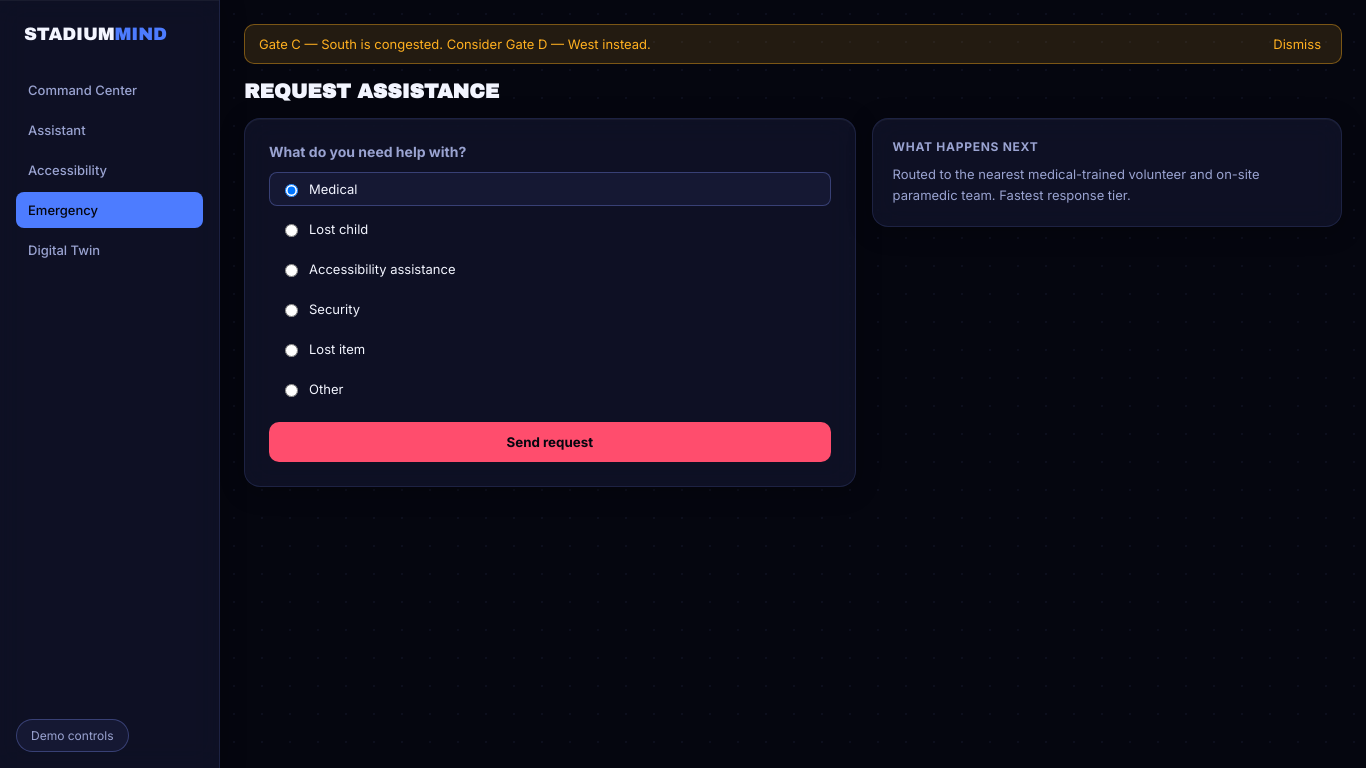
Test: App › routes "Lost child" into the dedicated recovery workflow instead of the generic form
This screenshot has width=1366, height=768.
Click the radio button labelled "Lost child": point(292, 230) x1=285 y1=224 x2=298 y2=237
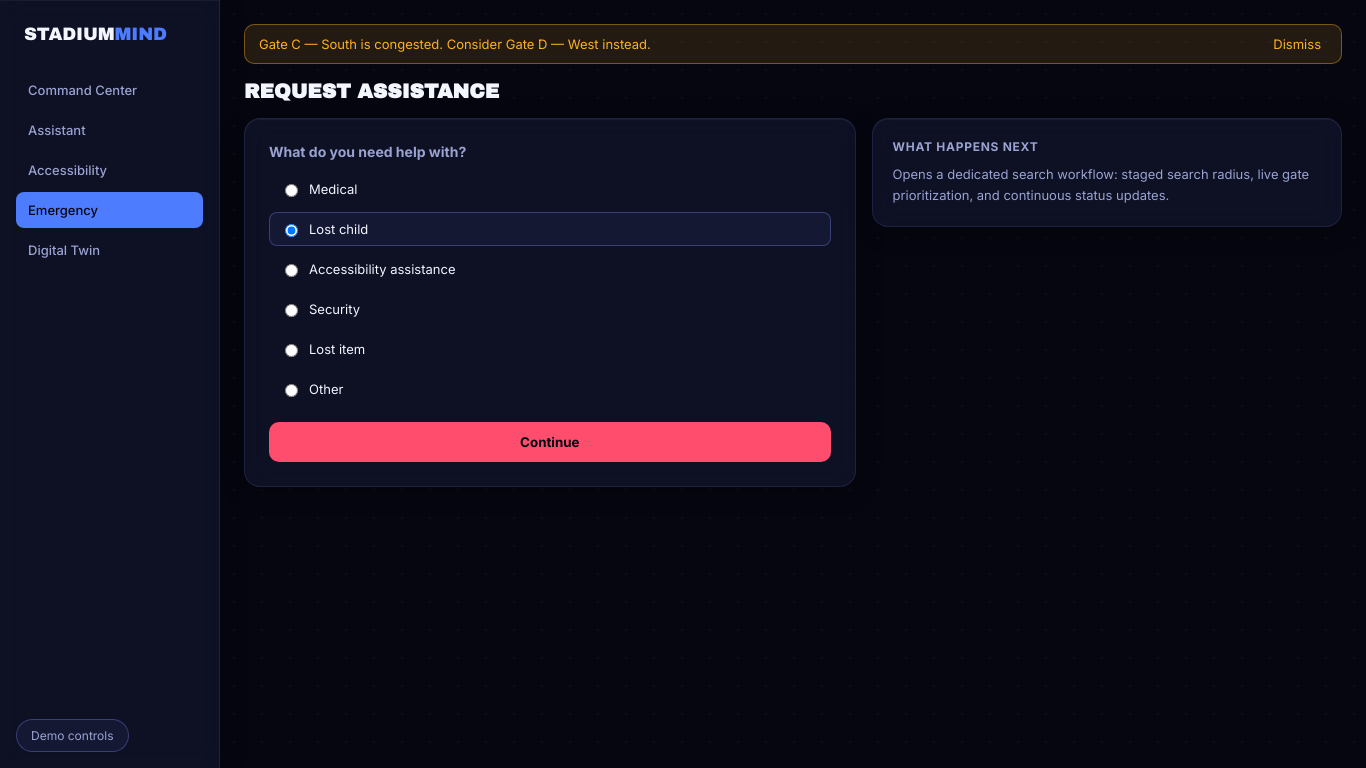
Click the button "Continue": point(550, 442) x1=269 y1=422 x2=831 y2=462
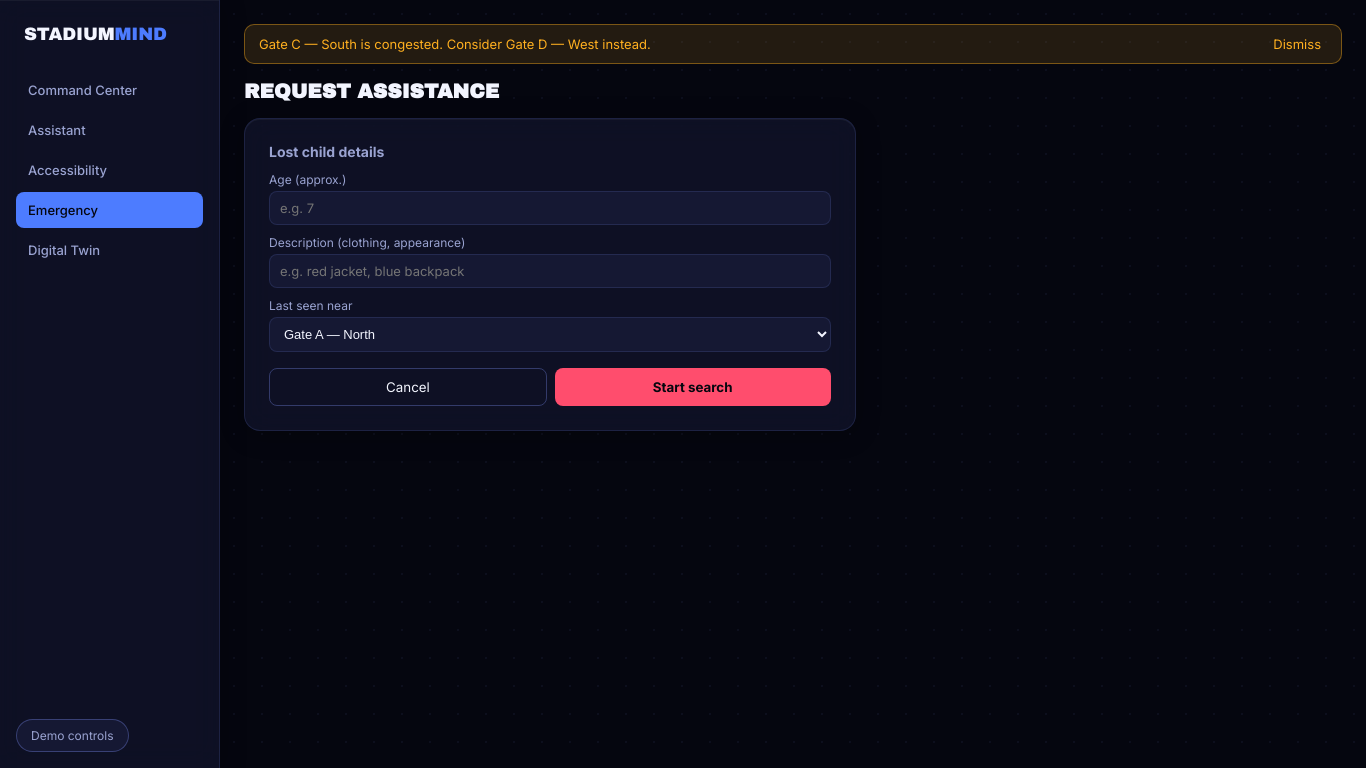
Check: the heading "Lost child details" is shown, box x1=269 y1=143 x2=384 y2=160
